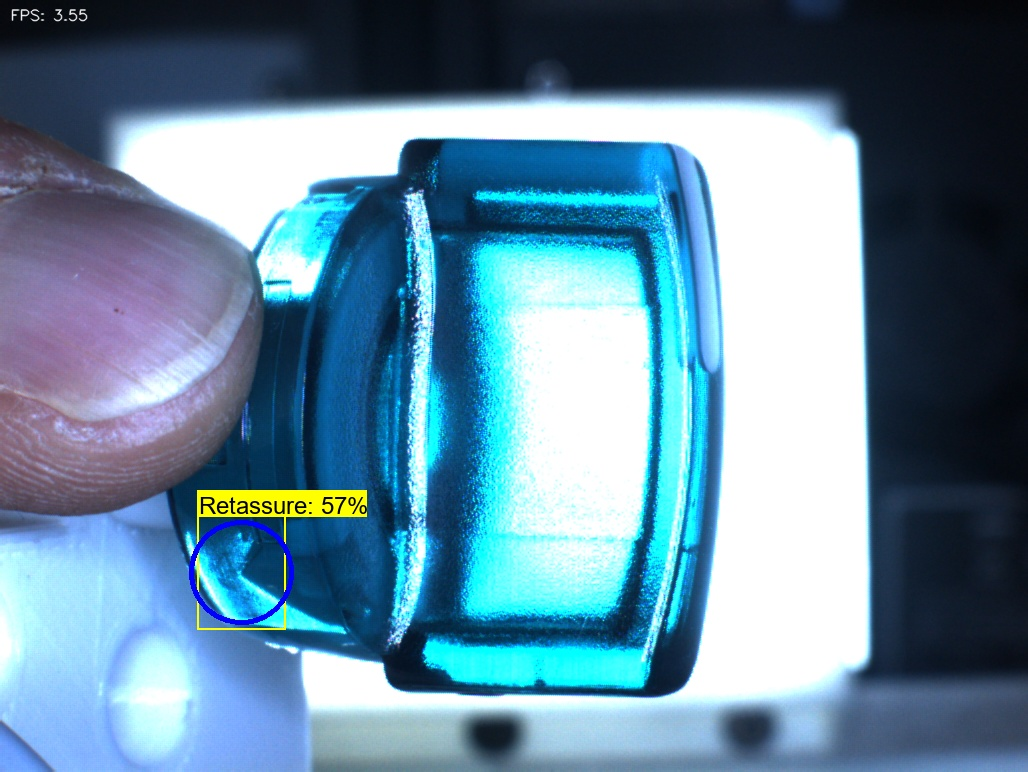Bulle: (499, 643, 583, 726)
